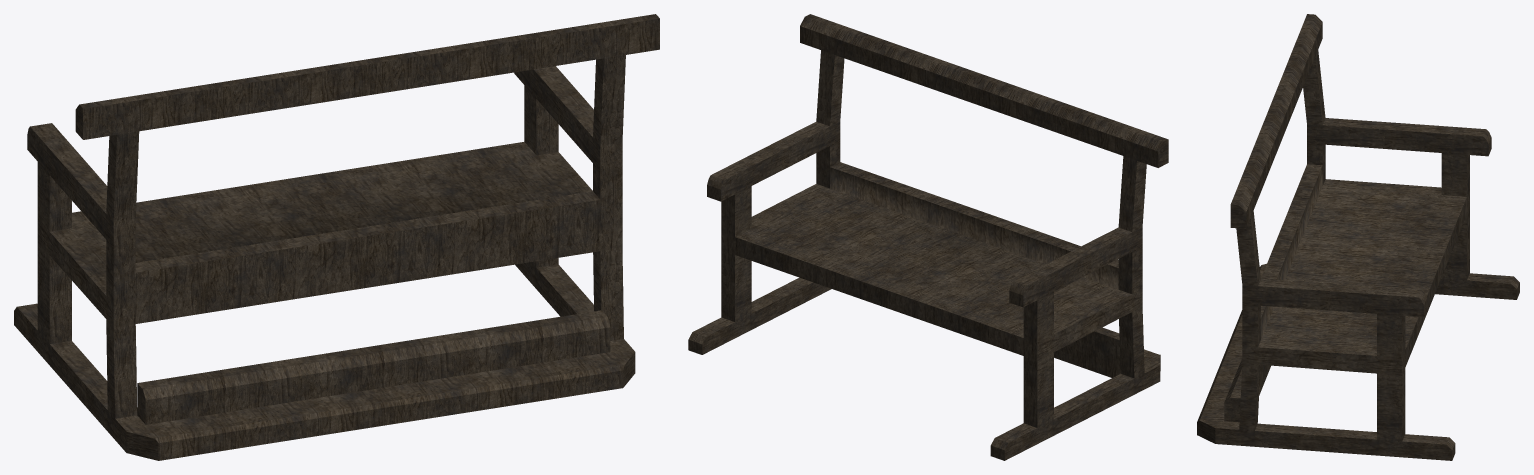
The model's file is Banco.obj.
The picture shows the model from 3 angles, left to right: view 1: azimuth 30°, elevation 25°; view 2: azimuth 150°, elevation 25°; view 3: azimuth 270°, elevation 25°; orthographic projection. The views are drawn at different scales.
Parts seen in each view (by area): view 1: Cube_Cube.008; view 2: Cube_Cube.008; view 3: Cube_Cube.008.
Part boxes in pixels (x1,y1,x2,y2): Cube_Cube.008: (14,14,659,460); Cube_Cube.008: (688,14,1168,460); Cube_Cube.008: (1197,14,1519,460).
Bounding box in the file's own units: 1.55 × 0.9331 × 1.08.
1 material, 1 textured.
